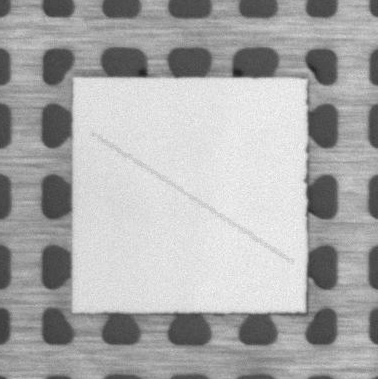DIE_CRACK: (92, 133, 292, 263)
